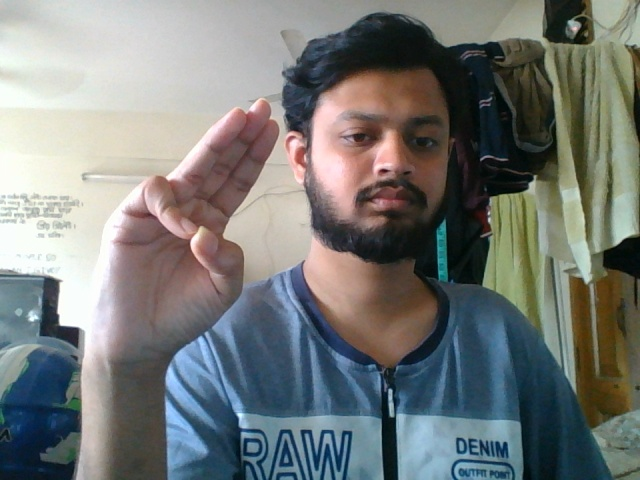ma: (89, 96, 286, 403)
